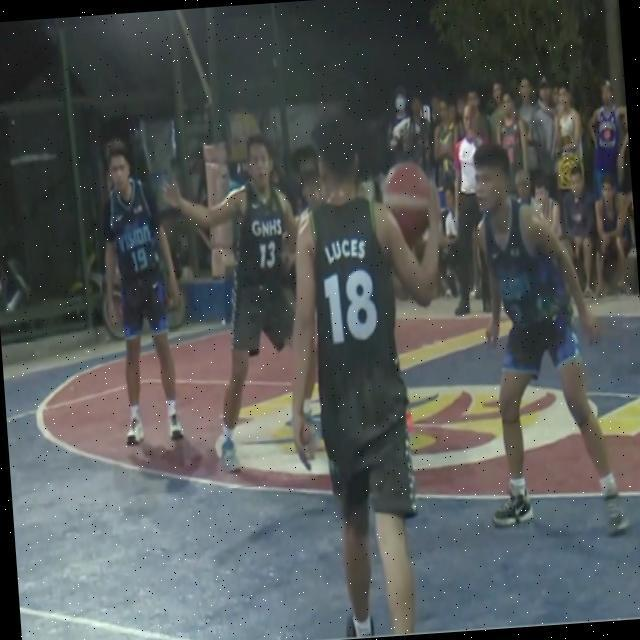ball: (374, 153, 442, 258)
